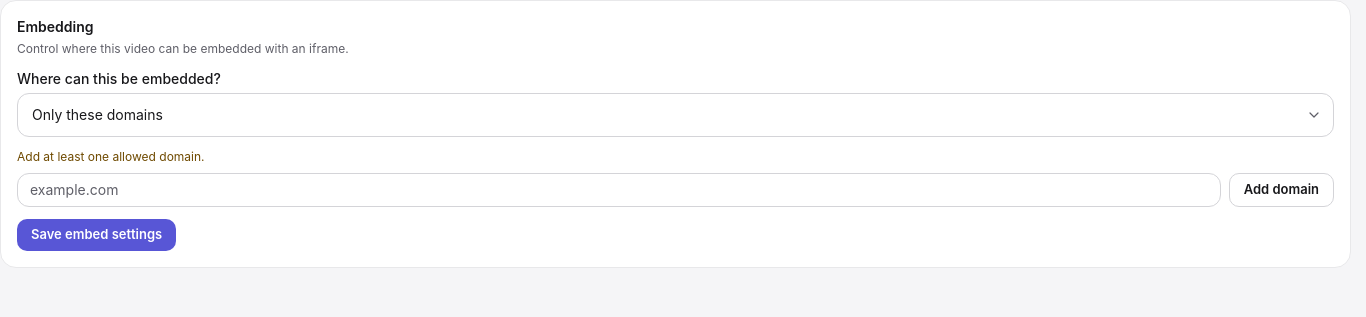
Test: EmbedPrivacyManager › rejects a non-bare-hostname domain before adding it
The image size is (1366, 317).
Step 1. Type "https://example.com/embed" into the field named "Add allowed domain" → (619, 190), box [17,173,1221,207]
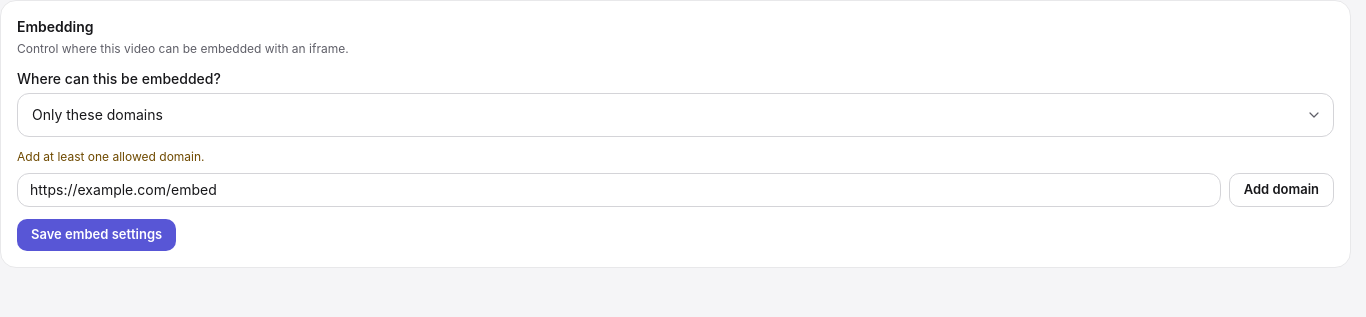
Step 2. Click the button "Add domain" → click(1281, 190), box [1229,173,1334,207]
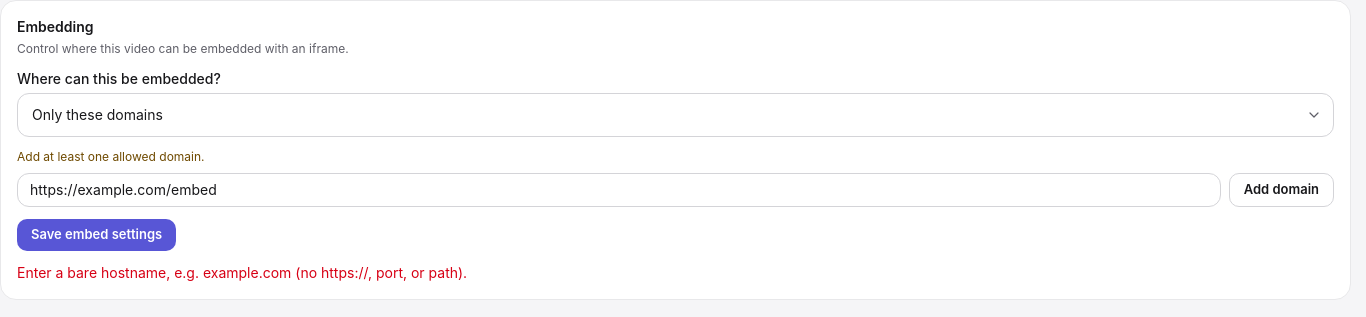
Expected: the message shows "bare hostname", [17,264,467,281]
